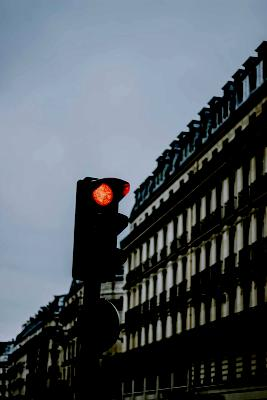International Road Signal Light: (72, 177, 130, 286)
